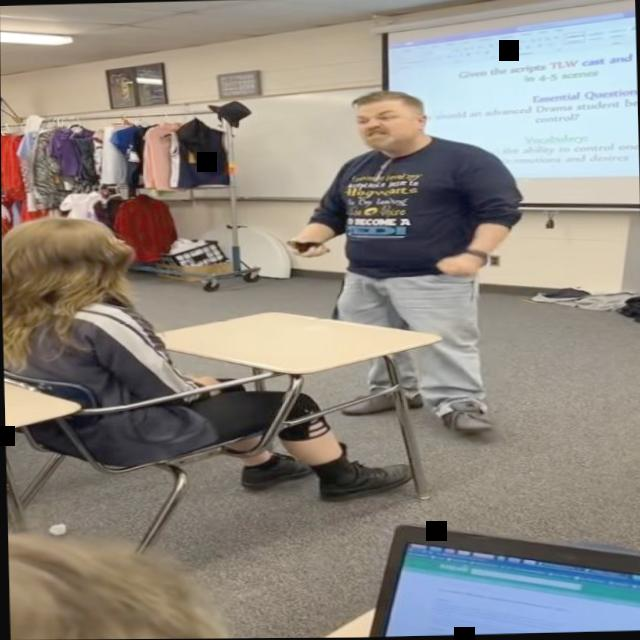NO-Mask: (352, 100, 430, 155)
